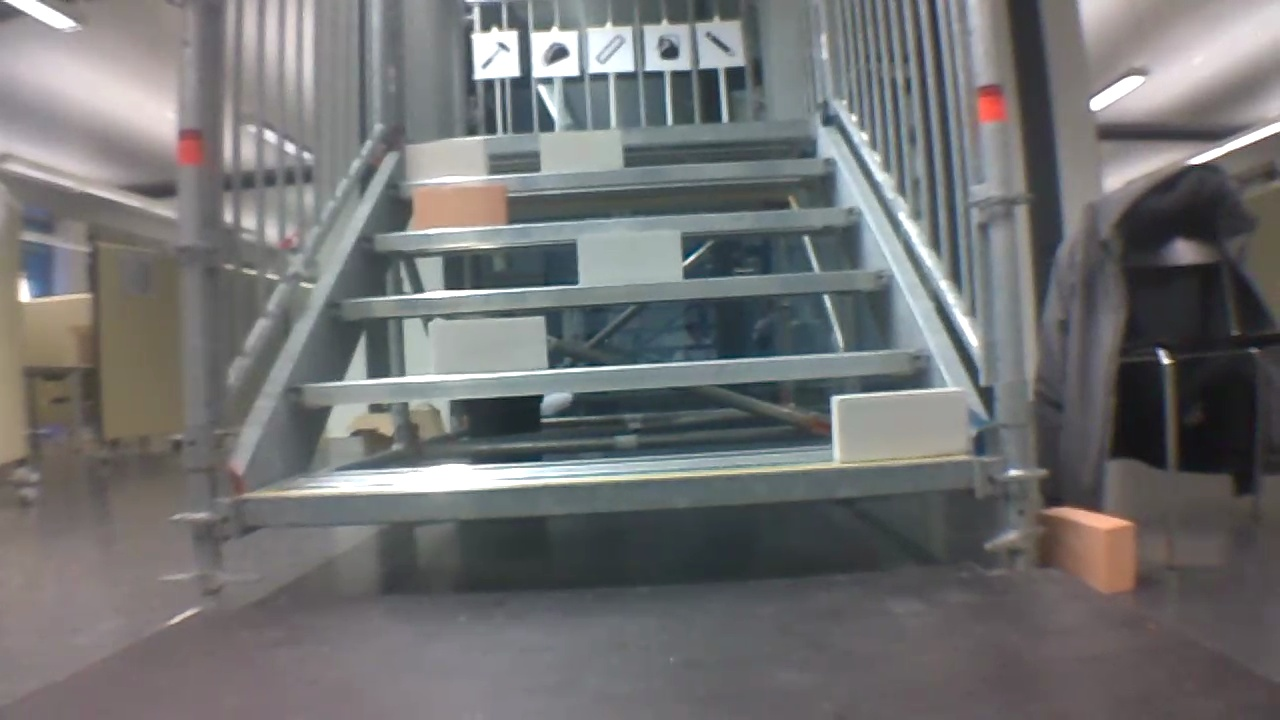brick: (830, 389, 969, 462), (430, 318, 545, 371), (579, 229, 681, 282), (412, 186, 505, 228), (539, 130, 620, 172), (407, 137, 484, 177)
bucket: (652, 31, 685, 64)
edge: (243, 460, 980, 519), (290, 352, 929, 402), (332, 270, 895, 314), (364, 208, 866, 251), (393, 160, 847, 194), (408, 117, 812, 149)
hammer: (475, 35, 511, 73)
pencil: (700, 27, 739, 61)
ruler: (594, 33, 628, 65)
stairs: (181, 2, 1036, 568)
steps: (231, 109, 987, 533)
taco: (540, 38, 575, 68)
